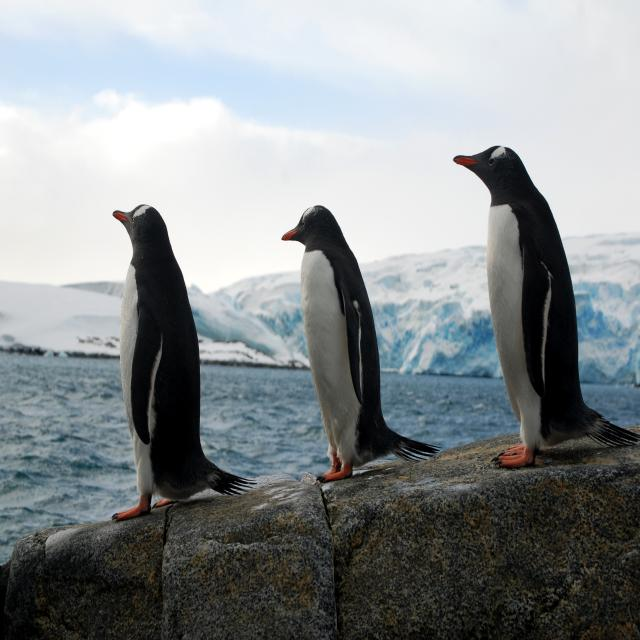Penguins: (451, 132, 627, 476), (275, 193, 418, 487), (105, 203, 233, 526)
